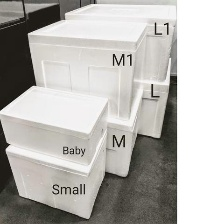foam_box: (15, 73, 148, 180), (24, 15, 151, 123), (32, 49, 173, 141), (0, 126, 114, 222), (62, 1, 176, 85), (0, 83, 110, 168)
